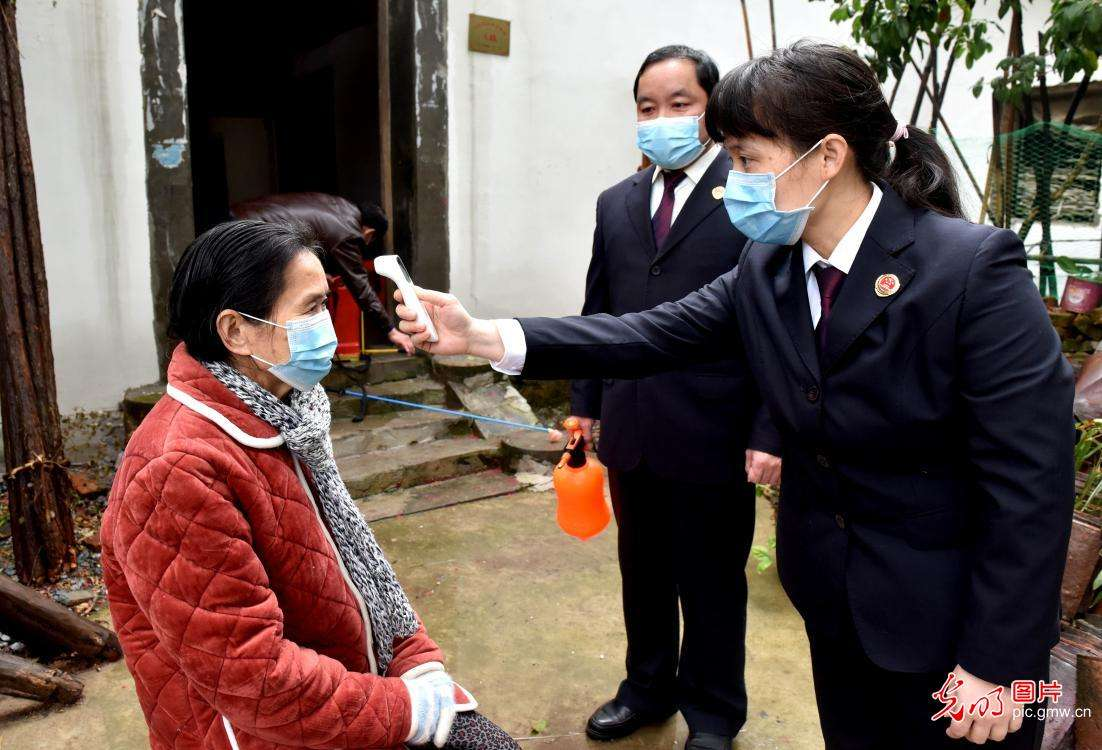Mask: (723, 107, 854, 245), (249, 252, 347, 393), (632, 57, 723, 168)
